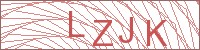J: (117, 16, 135, 44)
K: (144, 19, 169, 47)
L: (67, 10, 86, 38)
Z: (92, 19, 114, 47)
